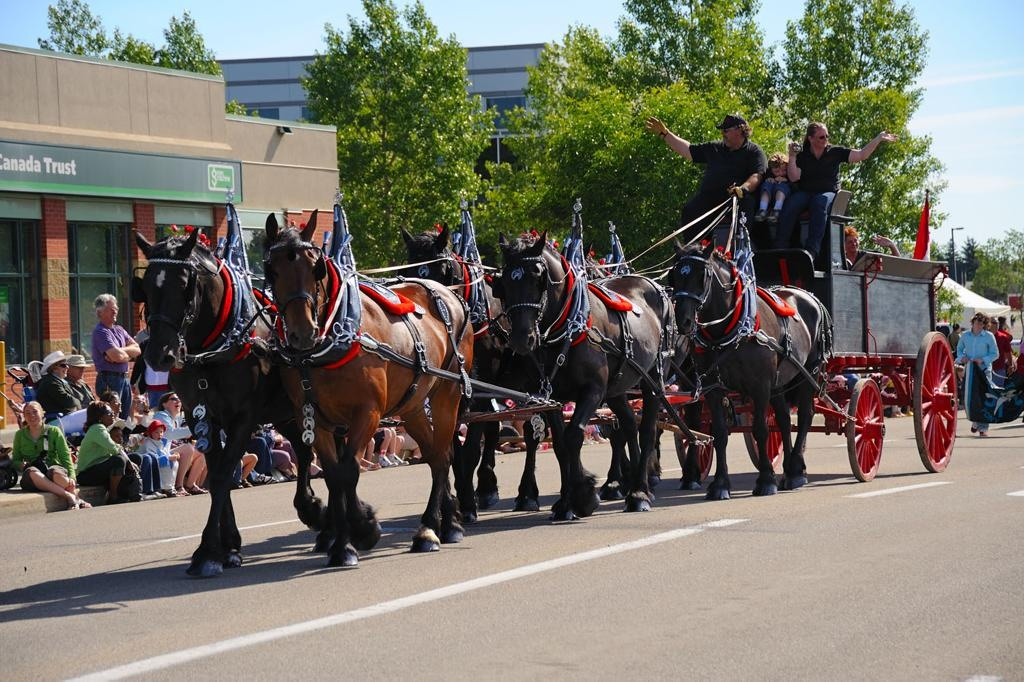human_face: (722, 121, 738, 146), (770, 160, 788, 180), (812, 125, 828, 147), (103, 299, 117, 321), (24, 405, 40, 423), (166, 393, 180, 412), (100, 404, 114, 422), (844, 232, 856, 252), (110, 395, 122, 413), (57, 360, 69, 375), (112, 426, 122, 444), (71, 362, 83, 376), (151, 426, 163, 438), (974, 317, 984, 327), (990, 318, 998, 330), (984, 320, 990, 328), (1002, 320, 1006, 326)
